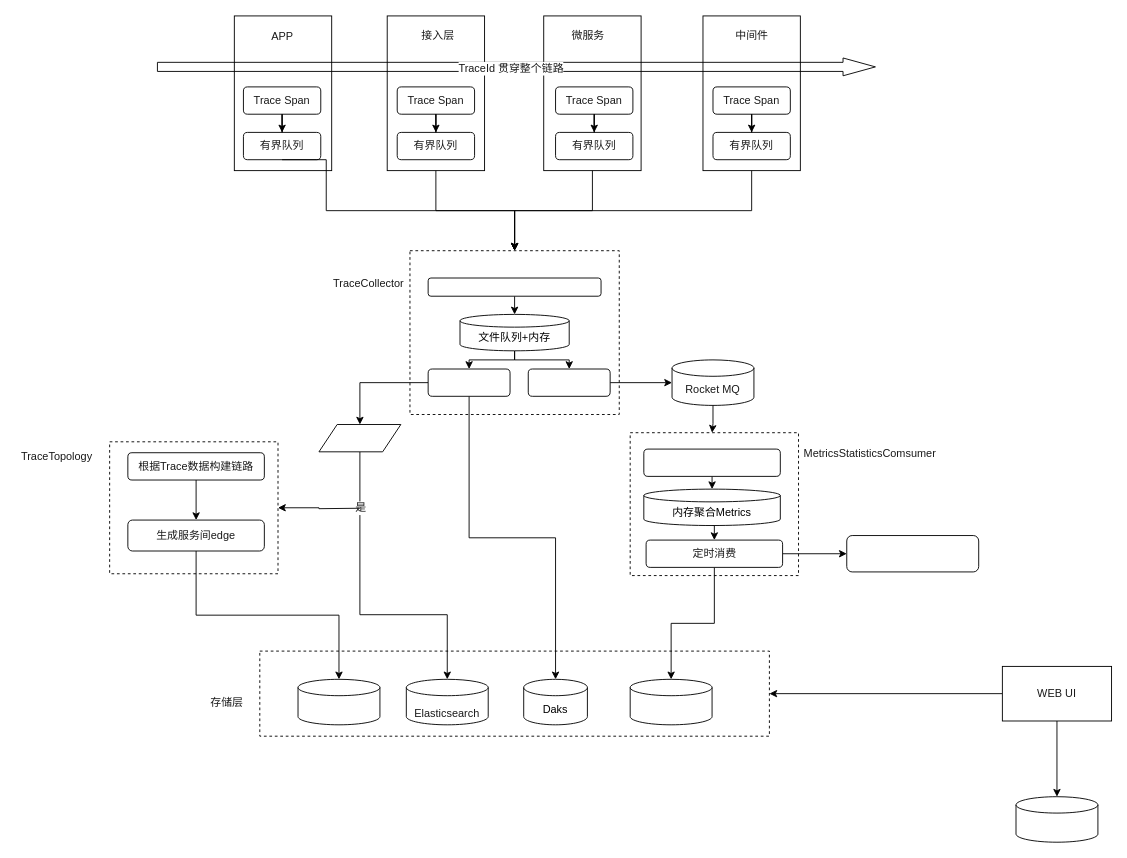
The diagram is 1127 pixels wide and 858 high, and some of its shapes have lost their labels. The shapes that lost their labels are listed below. From the top down, each one's centre as x and y in pixels, then its label:
At [514,286]: "Dataflow Http Server".
At [468,382]: "Trace Sink".
At [568,382]: "Metrics Sink".
At [359,438]: "是否服务 入口span".
At [711,462]: "消费MQ 数据".
At [912,553]: "告警服务 (接口告警、三分调用告警)".
At [338,701]: "SQlite".
At [670,701]: "TSHouse".
At [1056,819]: "MySql 管理数据".
